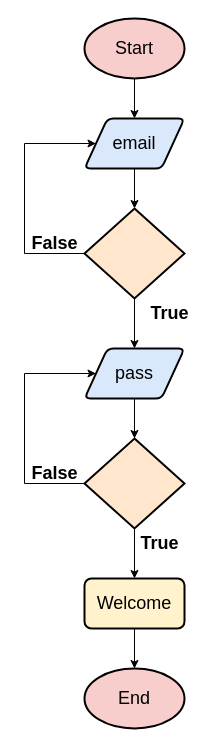
This 212x746 diagram has some shape labels left out. The shapes that lost their labels are listed below. From the top down, each one's box as (x1, y1, x2, y2) in pixels, then its label:
(83, 207, 185, 299): check email
(83, 437, 185, 529): check pass
